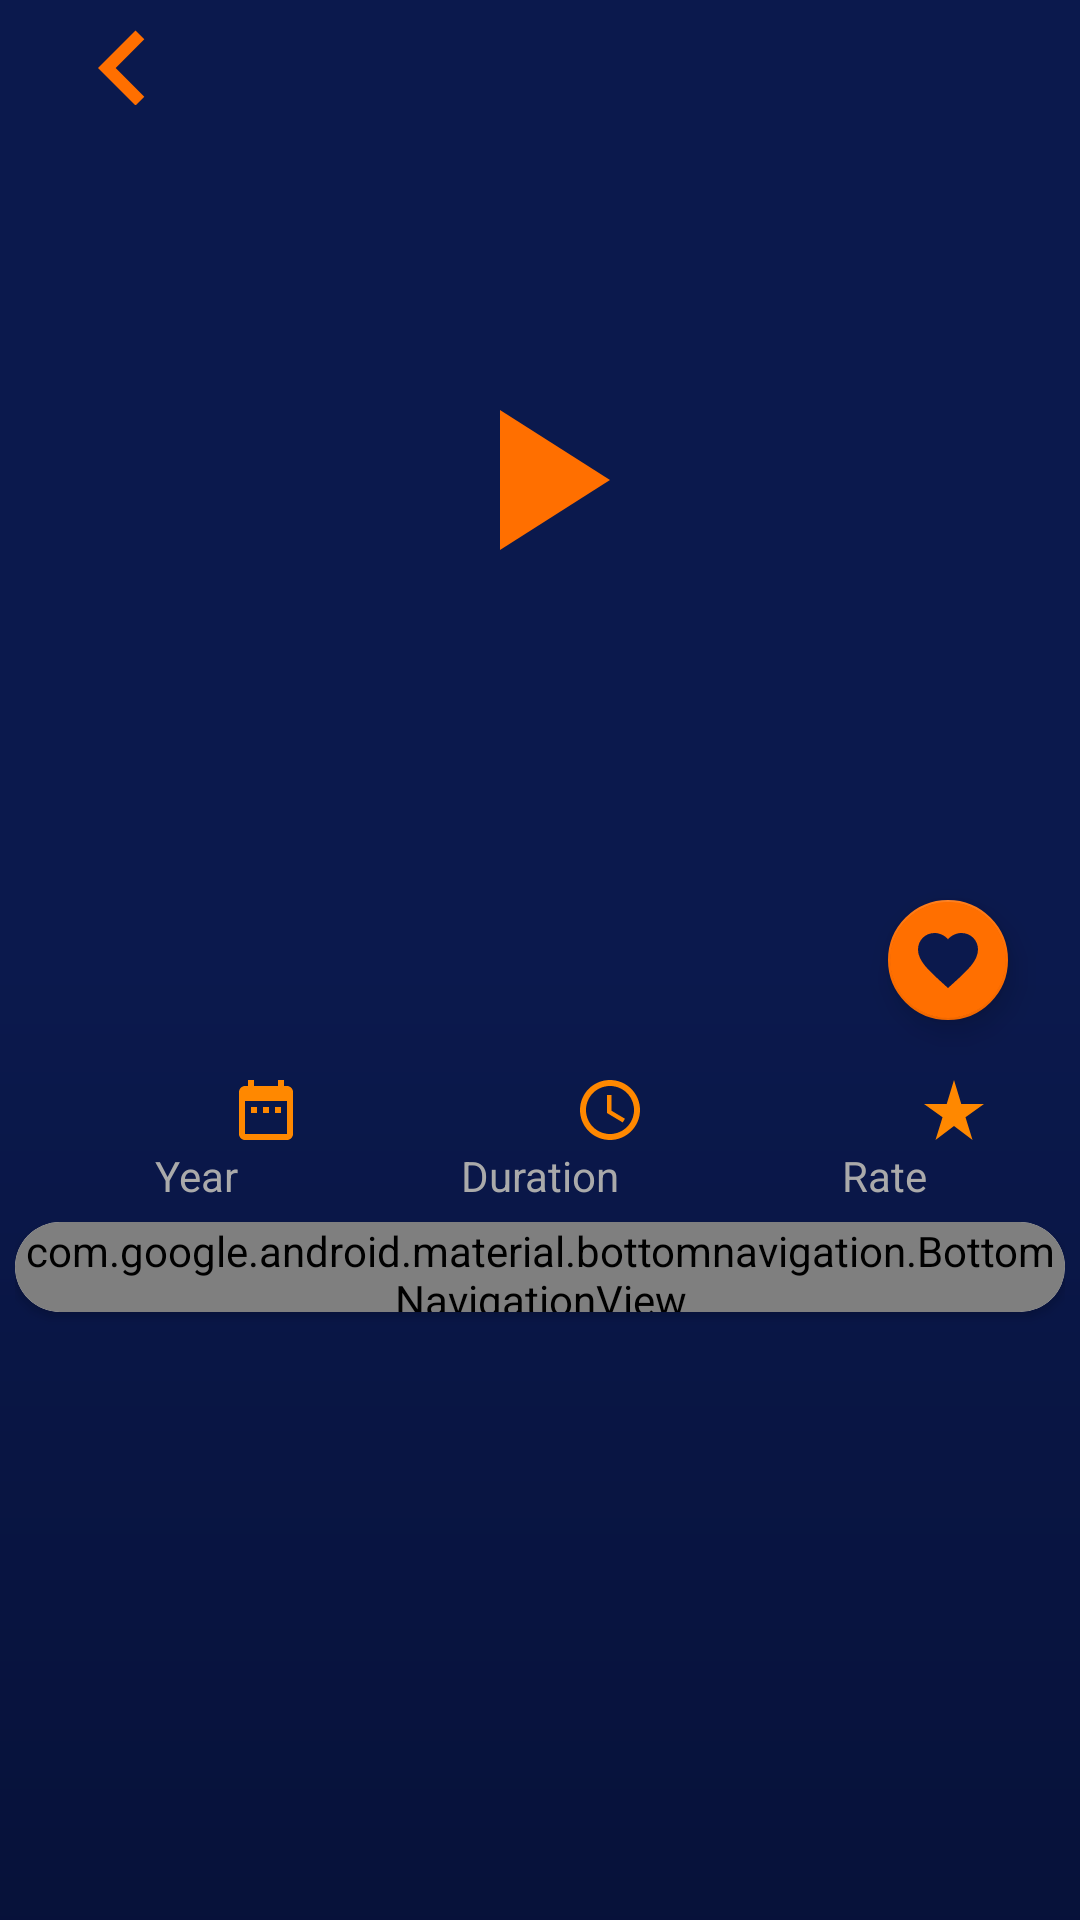

Where to tap for icons on this 1080*1920 app screen, as (x=x, y=y):
custom favorite: (x=948, y=960)
